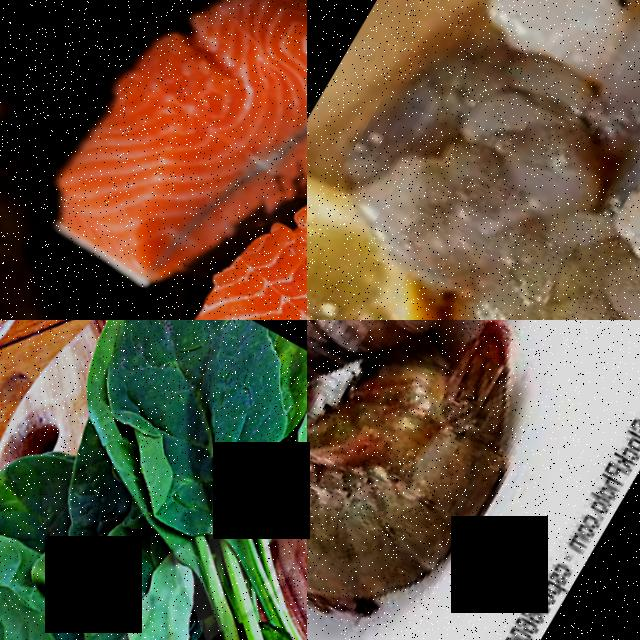salmon: (22, 0, 307, 320), (126, 94, 307, 320)
shrimp: (322, 320, 572, 628), (307, 397, 464, 640), (307, 320, 531, 385)
spinach: (323, 0, 601, 284), (55, 320, 307, 529), (423, 201, 640, 320), (53, 519, 232, 640), (466, 0, 640, 122), (0, 435, 73, 548)
